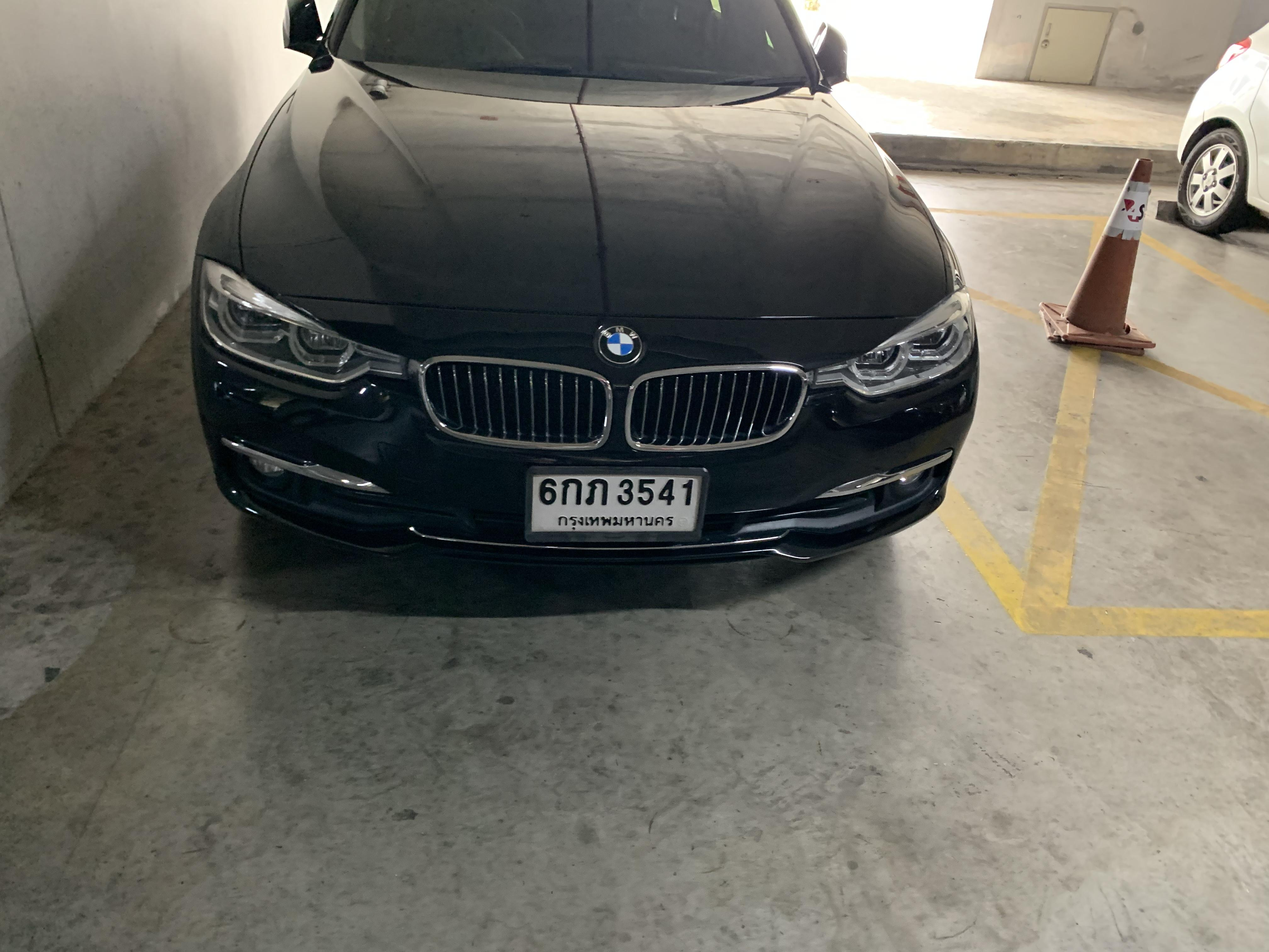license-plate: (523, 456, 707, 548)
